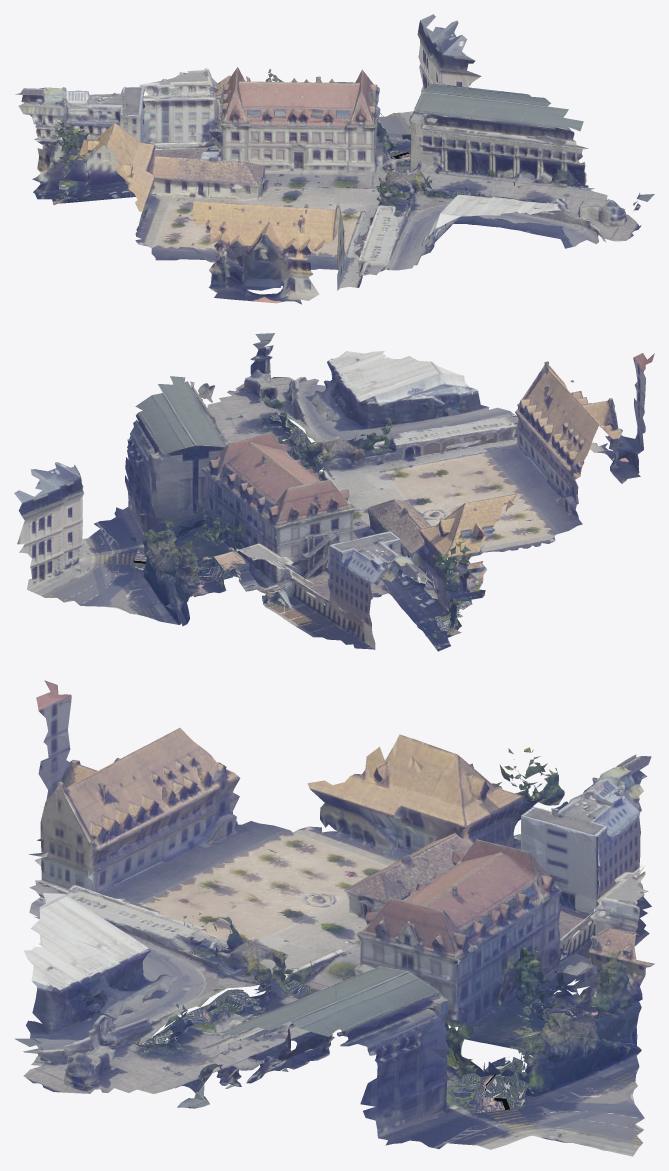
3 renders of one model, top to bottom at view 1: azimuth 30°, elevation 25°; view 2: azimuth 150°, elevation 25°; view 3: azimuth 270°, elevation 25°, orthographic. The views are drawn at different scales.
Size of the model in its own units: 109 by 41.36 by 109.
1 material, 1 textured.
